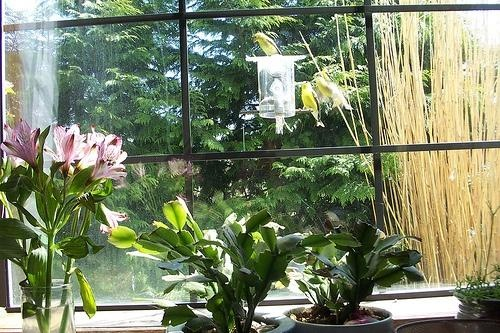bird: (313, 71, 346, 110), (302, 81, 323, 128), (253, 32, 282, 55)
pottedplant: (114, 199, 297, 333), (295, 224, 425, 330), (456, 285, 498, 323)
